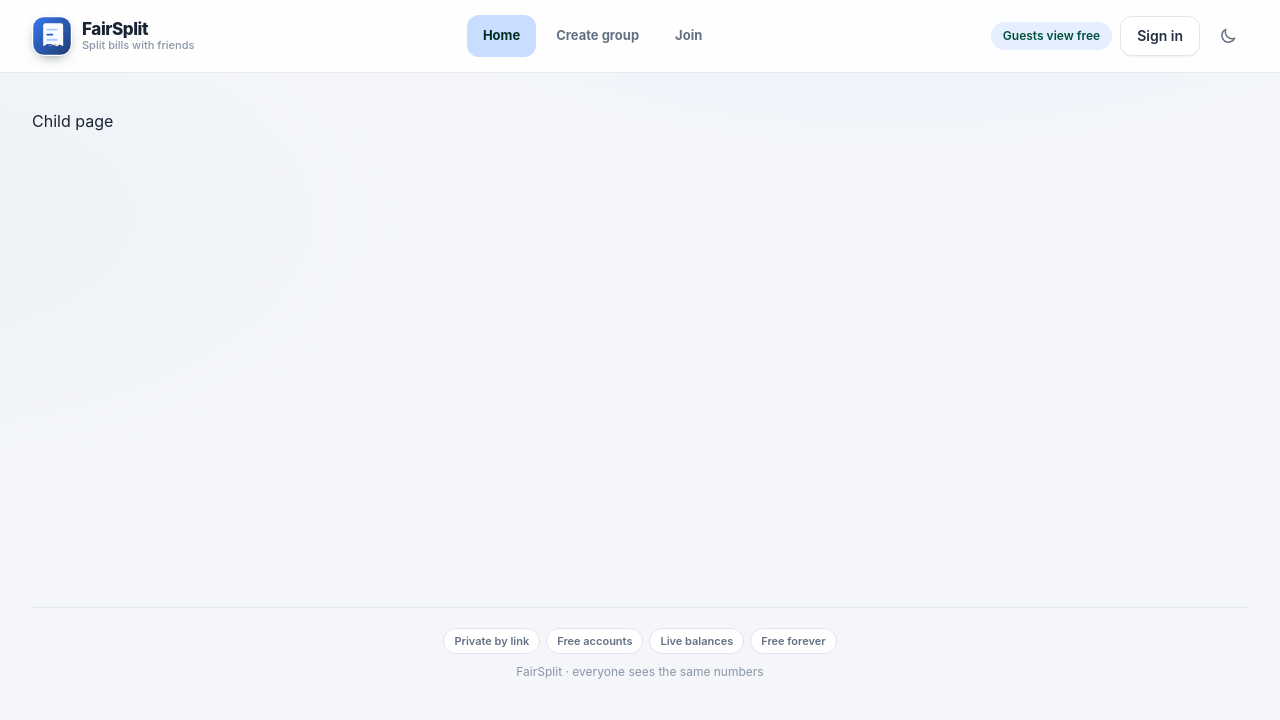
Scenario: Layout › opens the auth dialog for guests
The width and height of the screenshot is (1280, 720).
Click the button "Sign in" at (1160, 36), box [1120,16,1200,56]
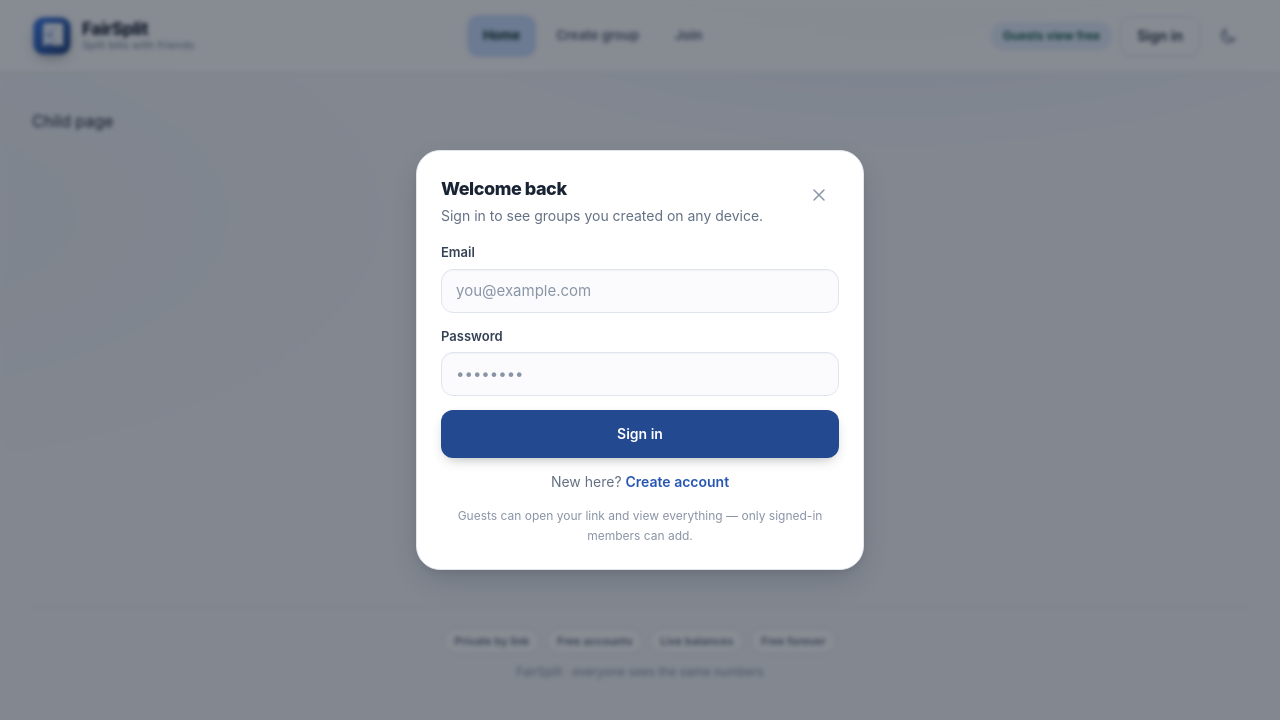
Now the heading "Welcome back" is shown, box [441,178,567,199]
